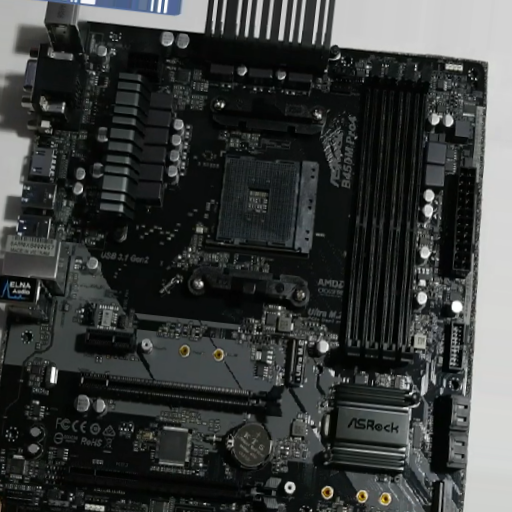CPU: (216, 152, 300, 245)
GPU: (64, 461, 279, 508), (76, 371, 286, 417)
MOTHERBOARD: (1, 31, 486, 512)
RAM: (343, 61, 431, 365)
SSD: (288, 339, 304, 387), (435, 480, 452, 512)
